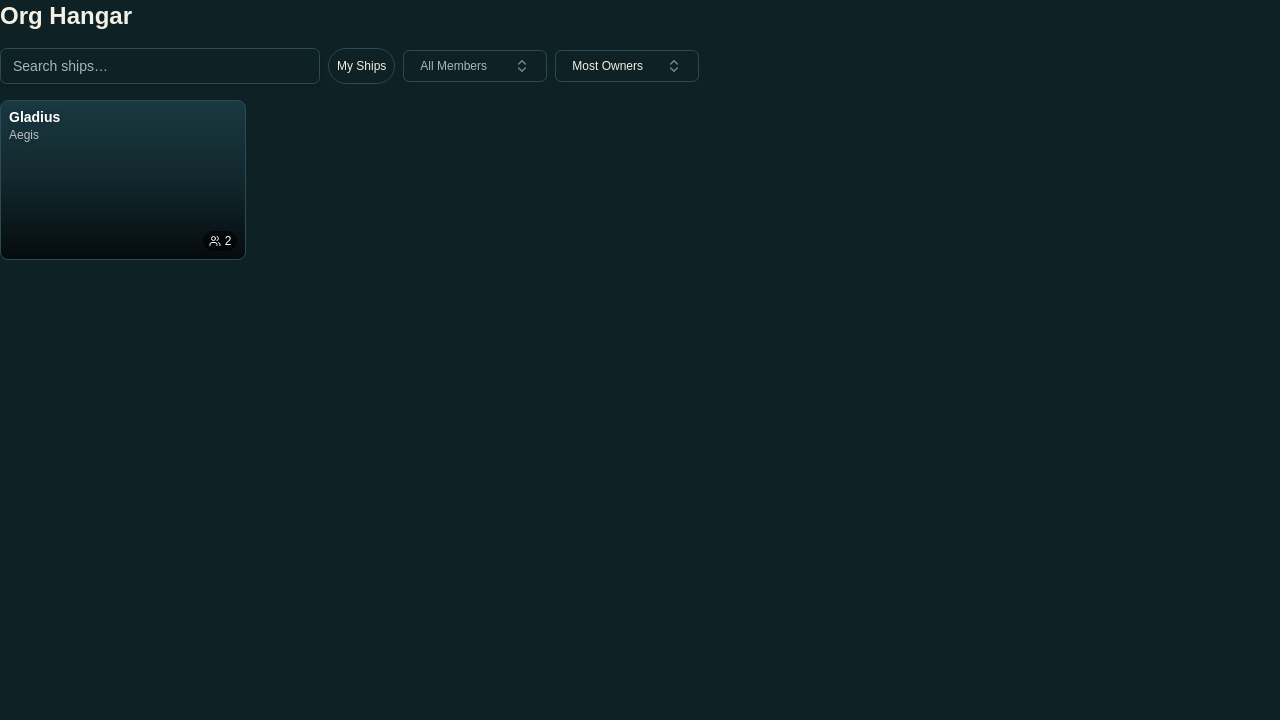
it: OrgHangarView › sort dropdown contains Most Owners and Ship Name options
Click the dropdown named "sort by" at (627,66), box [555, 50, 699, 82]
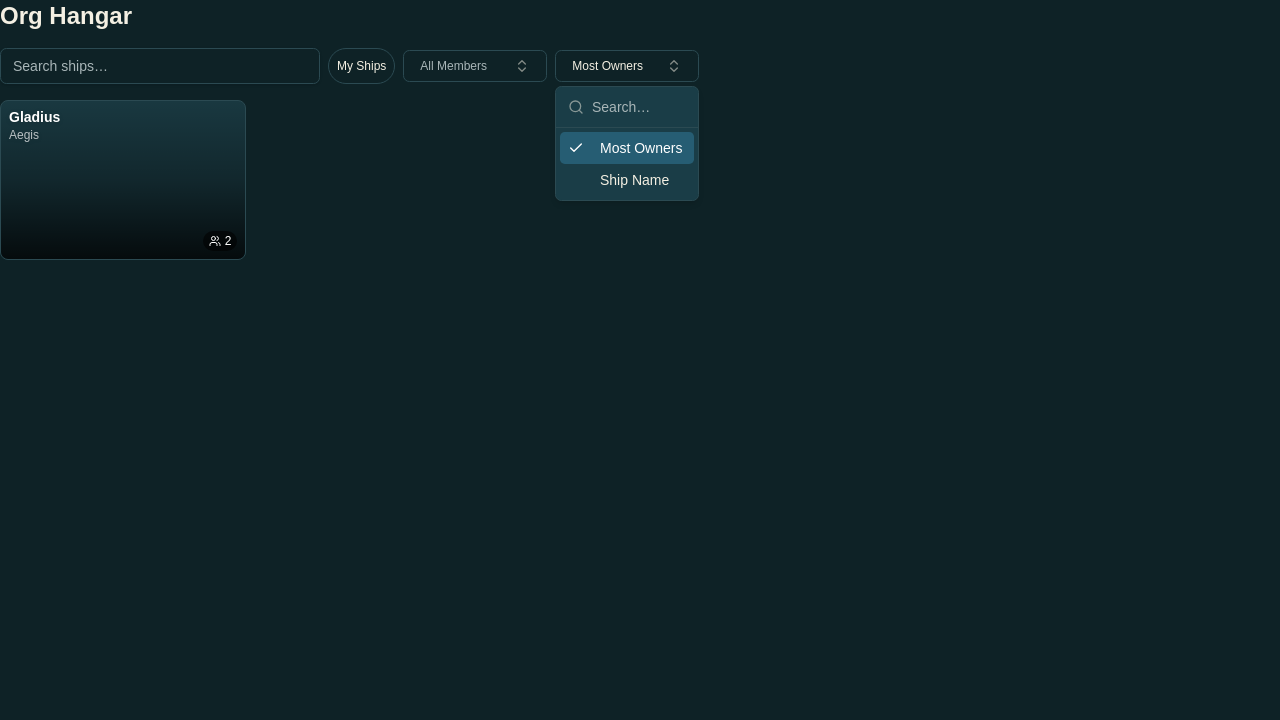
Expected: the option "Most Owners" is shown, [560, 132, 694, 164]
Expected: the option "Ship Name" is shown, [600, 172, 669, 188]
